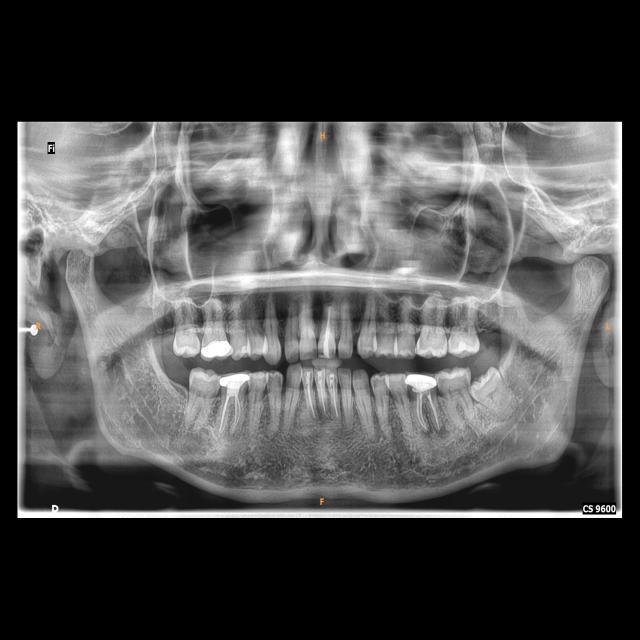kanal-tedavisi: (414, 391, 441, 434), (219, 394, 243, 431), (320, 305, 334, 355), (304, 383, 318, 421), (317, 384, 329, 418), (328, 387, 341, 416)
kaplama: (404, 371, 440, 393), (201, 339, 234, 360), (218, 369, 250, 390)
